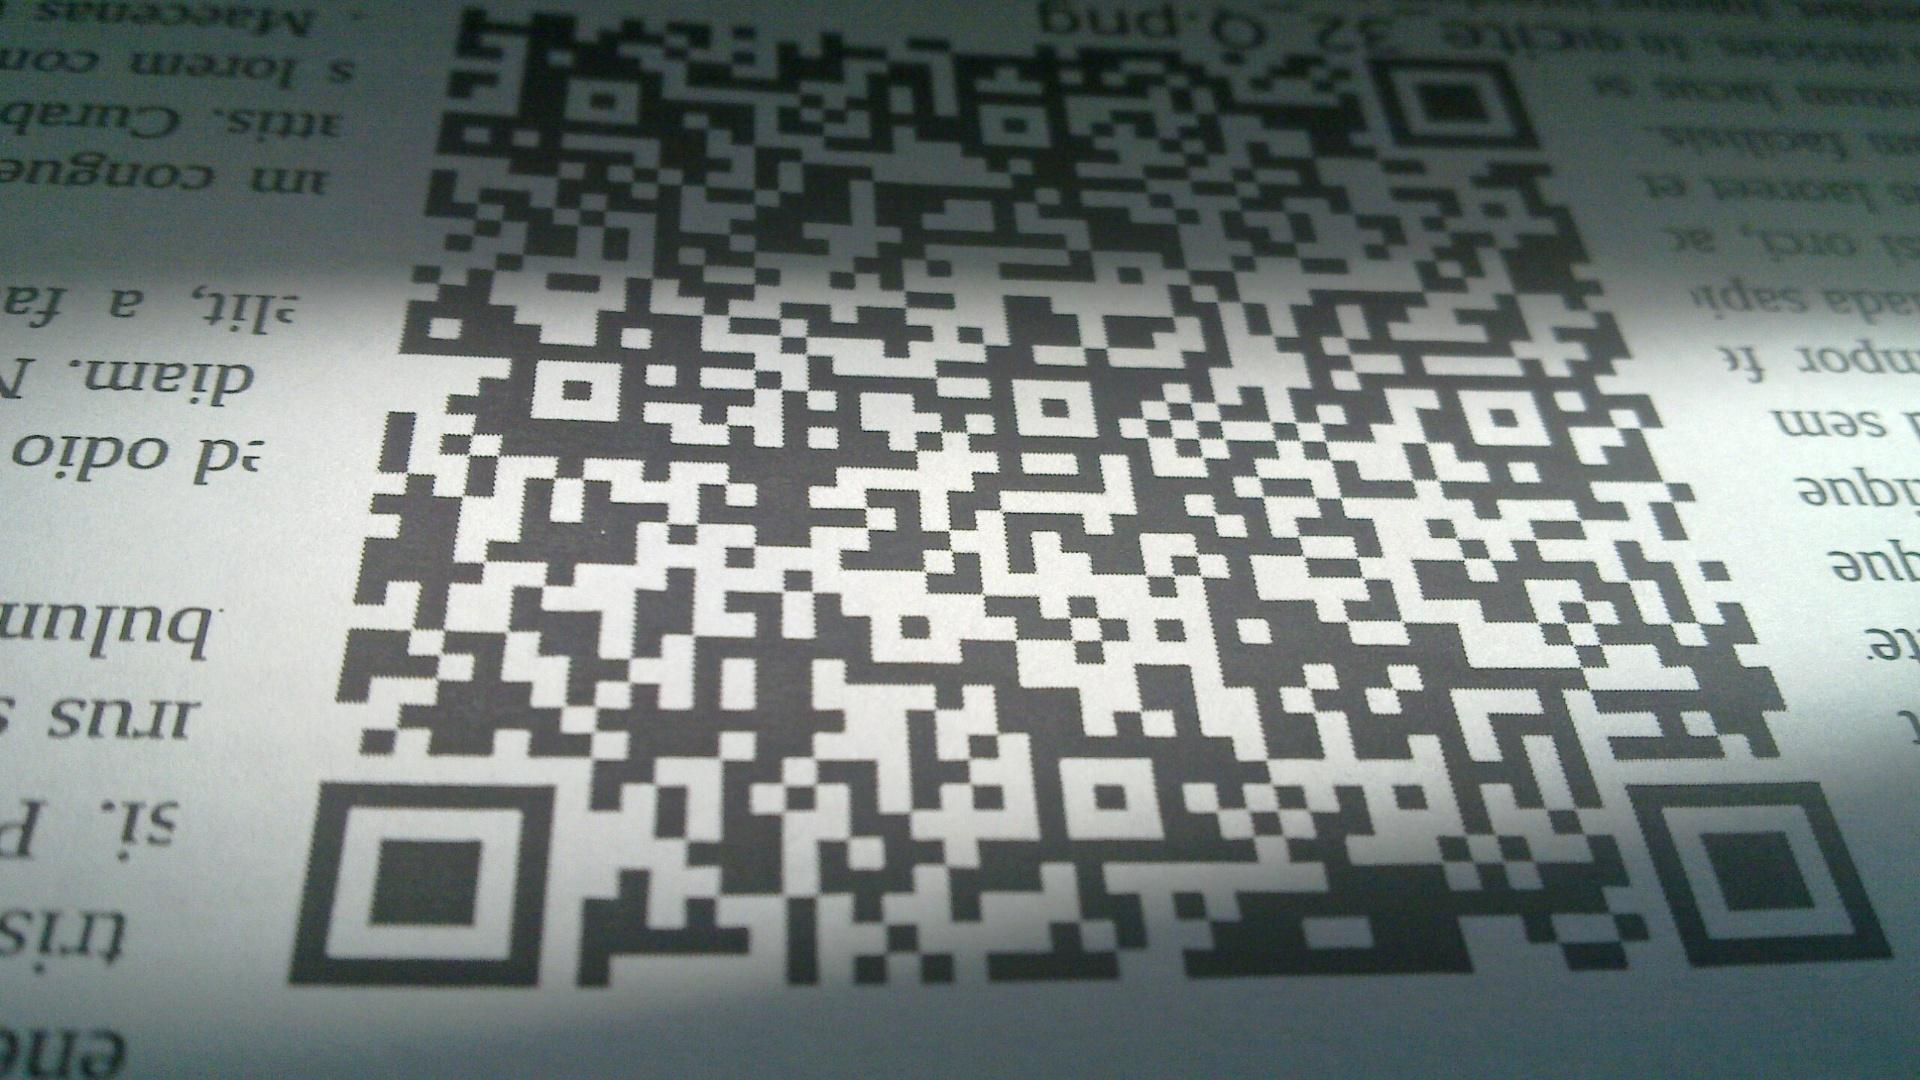Finder pattern: (287, 769, 562, 994), (1611, 767, 1894, 967), (1360, 46, 1547, 160)
